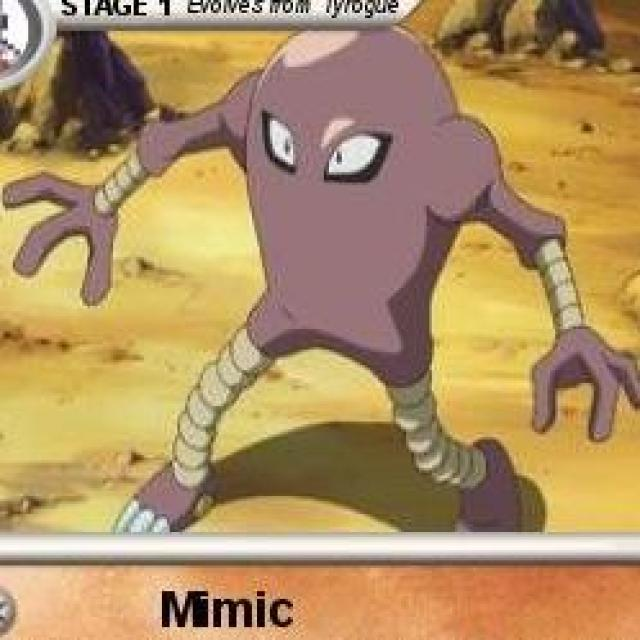Hitmonlee: (166, 29, 640, 474)
